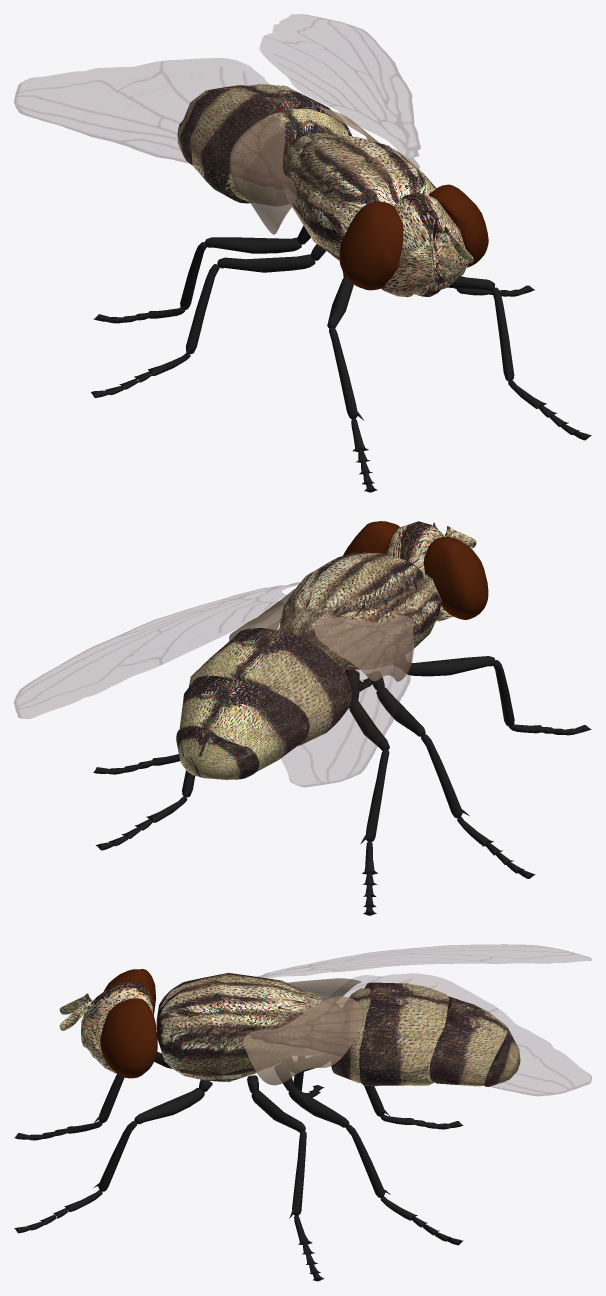
Rendered from Fly.obj.
3 renders of one model, top to bottom at view 1: azimuth 30°, elevation 25°; view 2: azimuth 150°, elevation 25°; view 3: azimuth 270°, elevation 25°, orthographic. The views are drawn at different scales.
Parts seen in each view (by area): view 1: (null); view 2: (null); view 3: (null).
Boxes of the visible parts, x1,y1,x2,y2 form: (null): [14, 14, 591, 492]; (null): [14, 521, 591, 915]; (null): [14, 944, 591, 1281].
Size of the model in its own units: 10204 by 5327 by 12841.
